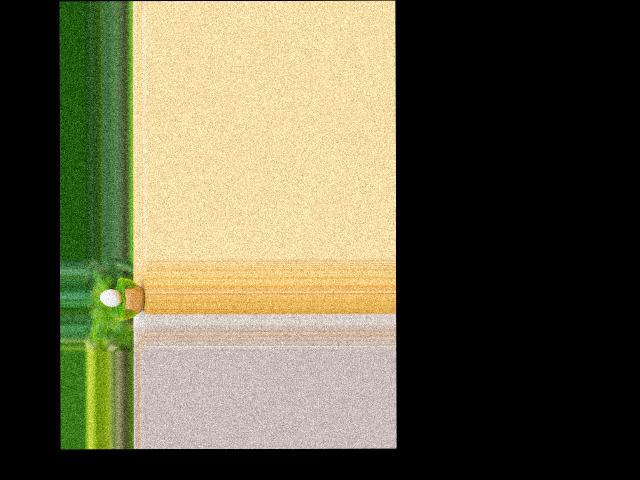egg: (100, 289, 122, 307)
